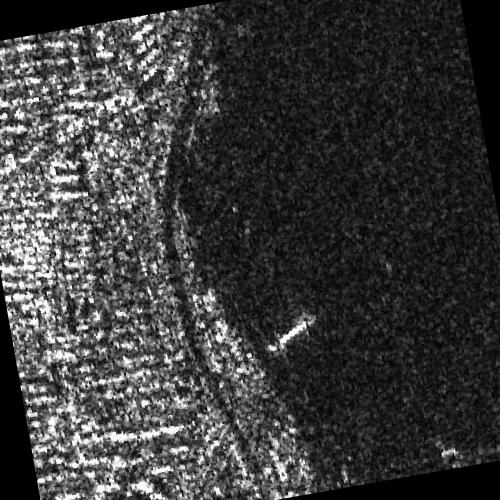ship: (268, 314, 316, 352)
